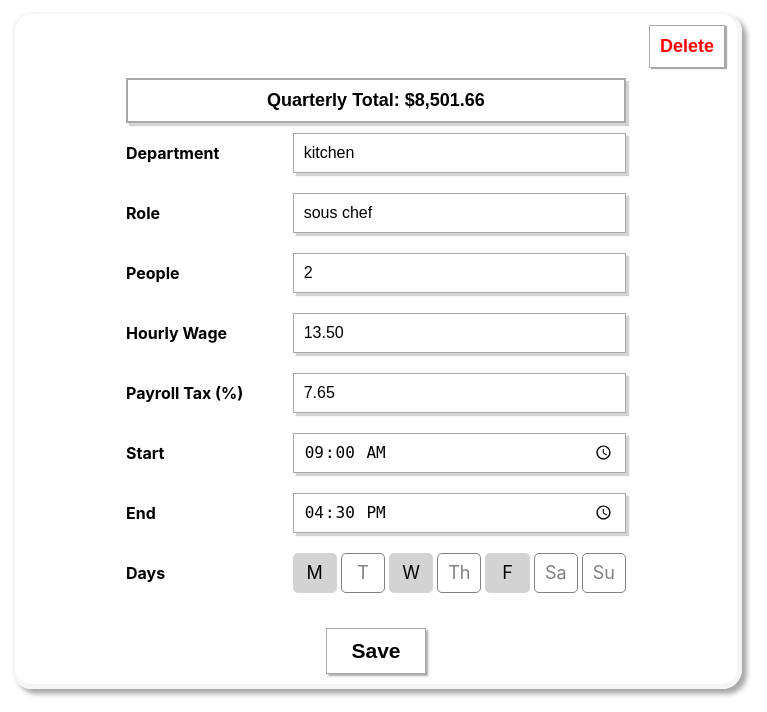
Test case: ShiftForm, wage › Rounds value on blur if value has more than two digits to right of decimal point
This screenshot has width=767, height=712.
Replace the text in the field with class "form-section__input_wage" with "9.123" at (459, 333), box [293,313,626,353]
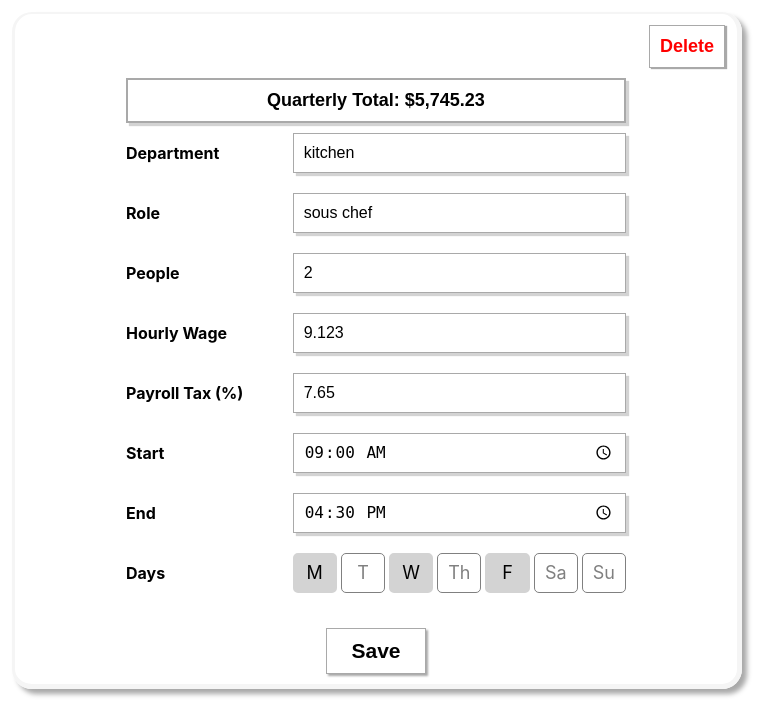
Leave the field with class "form-section__input_wage", box [293,313,626,353]
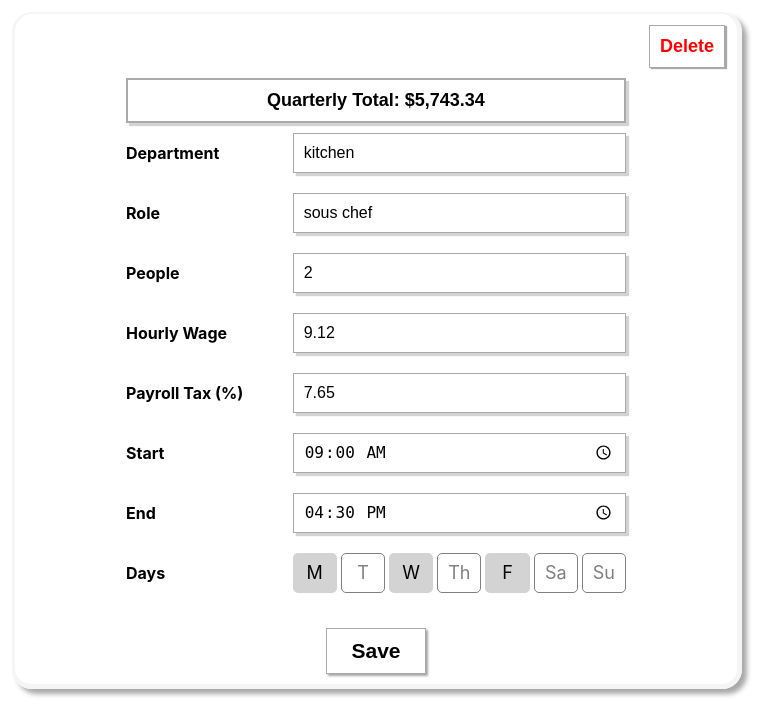
Now the field with class "form-section__input_wage" holds "9.12", box [293,313,626,353]
